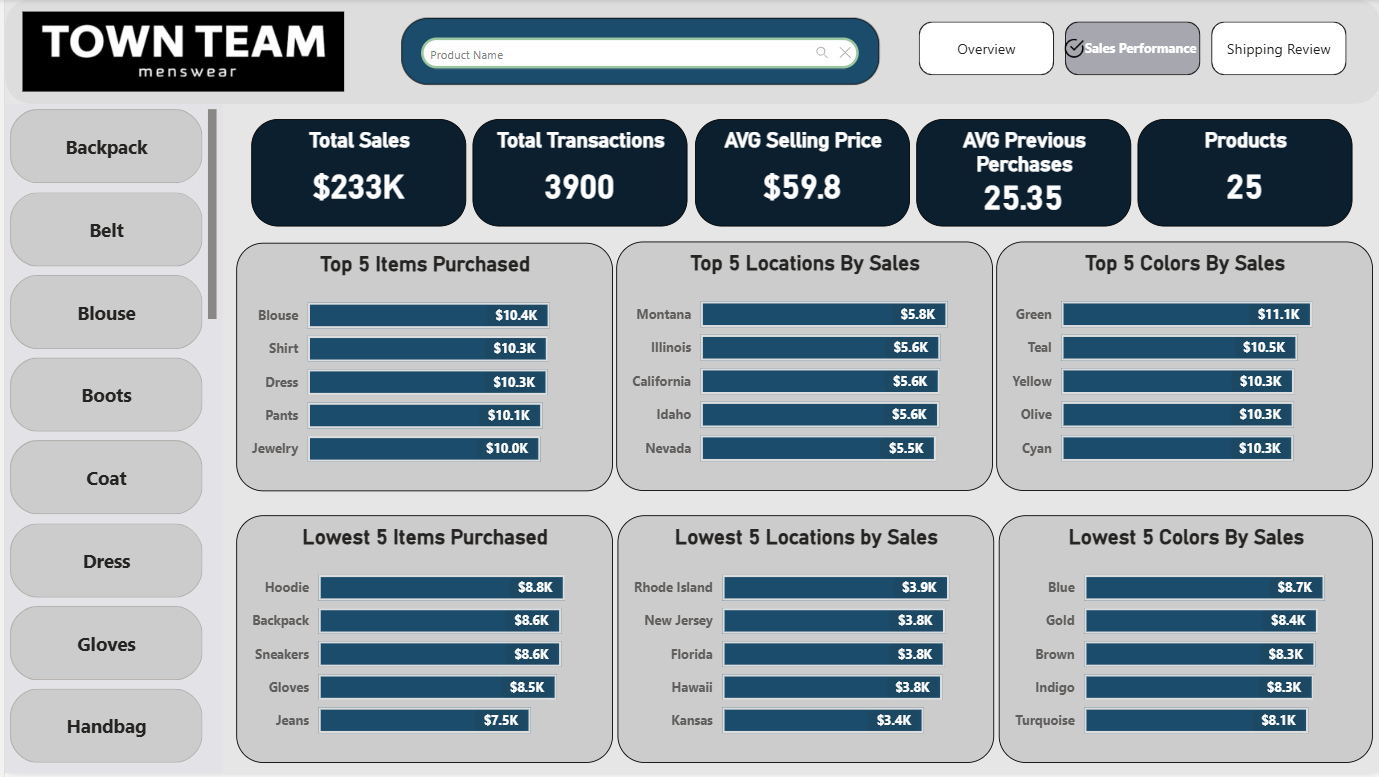

Layout of this report page (visuals, bound fields, positions):
{"tool":"powerbi","page":{"name":"Sales Performance ","canvas":[1280,720],"ordinal":1},"visuals":[{"type":"shape","box":[0,0,1280.2,97.7],"z":0},{"type":"advancedSlicerVisual","fields":{"Values":["shopping_behavior_updated (1).Item Purchased"]},"box":[0,97.7,202.3,622.1],"z":1000},{"type":"textSearchSlicerF85E2E78BE4A4D7D9F99ED75B5D71C85","fields":{"fields":["shopping_behavior_updated (1).Item Purchased"]},"box":[368.5,17.9,444.4,62.5],"z":2000},{"type":"pageNavigator","box":[850,20.9,400,50],"z":3000},{"type":"clusteredBarChart","title":"Top 5 Items Purchased","fields":{"Y":["shopping_behavior_updated (1).# Total Sales"],"Category":["shopping_behavior_updated (1).Item Purchased"]},"box":[215.3,226.7,350,231.4],"z":4000},{"type":"clusteredBarChart","title":"Top 5 Colors By Sales","fields":{"Y":["shopping_behavior_updated (1).# Total Sales"],"Category":["shopping_behavior_updated (1).Color"]},"box":[922.3,225.9,350,232],"z":5000},{"type":"clusteredBarChart","title":"Top 5 Locations By Sales","fields":{"Y":["shopping_behavior_updated (1).# Total Sales"],"Category":["shopping_behavior_updated (1).Location"]},"box":[568.8,225.1,350,232],"z":6000},{"type":"clusteredBarChart","title":"Lowest 5 Locations by Sales","fields":{"Y":["shopping_behavior_updated (1).# Total Sales"],"Category":["shopping_behavior_updated (1).Location"]},"box":[569.8,480.2,350,230.2],"z":7000},{"type":"clusteredBarChart","title":"Lowest 5 Items Purchased","fields":{"Y":["shopping_behavior_updated (1).# Total Sales"],"Category":["shopping_behavior_updated (1).Item Purchased"]},"box":[215.1,480.2,350,230.2],"z":8000},{"type":"clusteredBarChart","title":"Lowest 5 Colors By Sales","fields":{"Category":["shopping_behavior_updated (1).Color"],"Y":["shopping_behavior_updated (1).# Total Sales"]},"box":[924.4,480.2,347.7,230.2],"z":9000},{"type":"card","title":"Total Sales","fields":{"Values":["shopping_behavior_updated (1).# Total Sales"]},"box":[229.3,111.4,200,100],"z":10000},{"type":"card","title":"Total Transactions","fields":{"Values":["shopping_behavior_updated (1).# Customers"]},"box":[435.4,111.6,200,100],"z":11000},{"type":"card","title":"Products","fields":{"Values":["shopping_behavior_updated (1).# Products"]},"box":[1053.7,111.4,200,100],"z":12000},{"type":"card","title":"AVG Selling Price","fields":{"Values":["shopping_behavior_updated (1).# AVG Selling Price"]},"box":[641.5,111.4,200,100],"z":13000},{"type":"card","title":"AVG Previous Perchases","fields":{"Values":["shopping_behavior_updated (1).# AVG Previous Perchases"]},"box":[847.6,111.4,200,100],"z":14000},{"type":"image","box":[16.7,8.9,299.3,79.3],"z":15000},{"type":"image","box":[983.8,30.1,21.2,31.3],"z":16000}]}

Visuals, with their boxes in screenshot pixels (x1, y1, x2, y2), scaled from the page's 1280x720 canvas onto the 1379x777 screenshot:
shape: (left=0, top=0, right=1378, bottom=105)
advancedSlicerVisual - shopping_behavior_updated (1).Item Purchased: (left=0, top=105, right=218, bottom=776)
textSearchSlicerF85E2E78BE4A4D7D9F99ED75B5D71C85 - shopping_behavior_updated (1).Item Purchased: (left=397, top=19, right=876, bottom=87)
pageNavigator: (left=916, top=23, right=1347, bottom=77)
"Top 5 Items Purchased" clusteredBarChart: (left=232, top=245, right=609, bottom=494)
"Top 5 Colors By Sales" clusteredBarChart: (left=994, top=244, right=1371, bottom=494)
"Top 5 Locations By Sales" clusteredBarChart: (left=613, top=243, right=990, bottom=493)
"Lowest 5 Locations by Sales" clusteredBarChart: (left=614, top=518, right=991, bottom=767)
"Lowest 5 Items Purchased" clusteredBarChart: (left=232, top=518, right=609, bottom=767)
"Lowest 5 Colors By Sales" clusteredBarChart: (left=996, top=518, right=1370, bottom=767)
"Total Sales" card: (left=247, top=120, right=463, bottom=228)
"Total Transactions" card: (left=469, top=120, right=685, bottom=228)
"Products" card: (left=1135, top=120, right=1351, bottom=228)
"AVG Selling Price" card: (left=691, top=120, right=907, bottom=228)
"AVG Previous Perchases" card: (left=913, top=120, right=1129, bottom=228)
image: (left=18, top=10, right=340, bottom=95)
image: (left=1060, top=32, right=1083, bottom=66)
